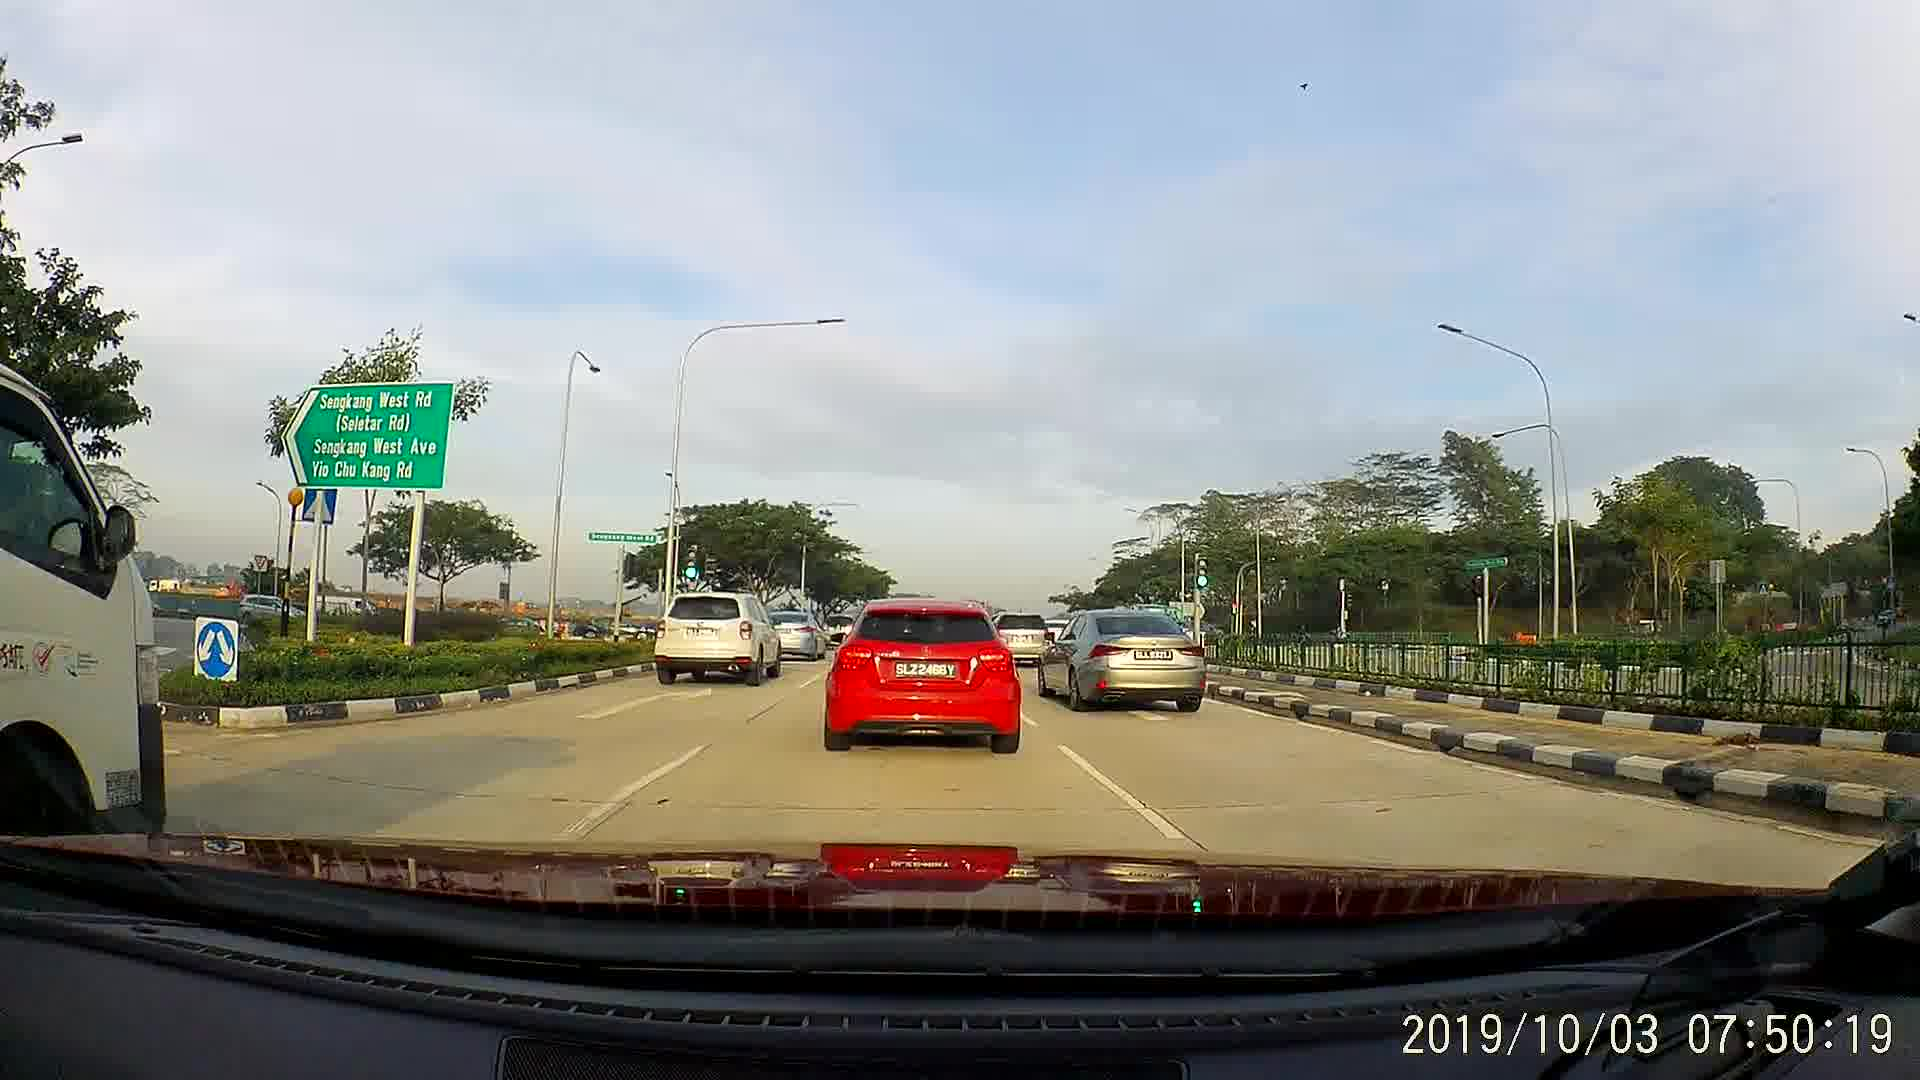car: (3, 369, 194, 828), (825, 587, 1025, 757), (1040, 604, 1207, 719), (651, 585, 785, 688), (990, 604, 1062, 673), (758, 611, 828, 659)
